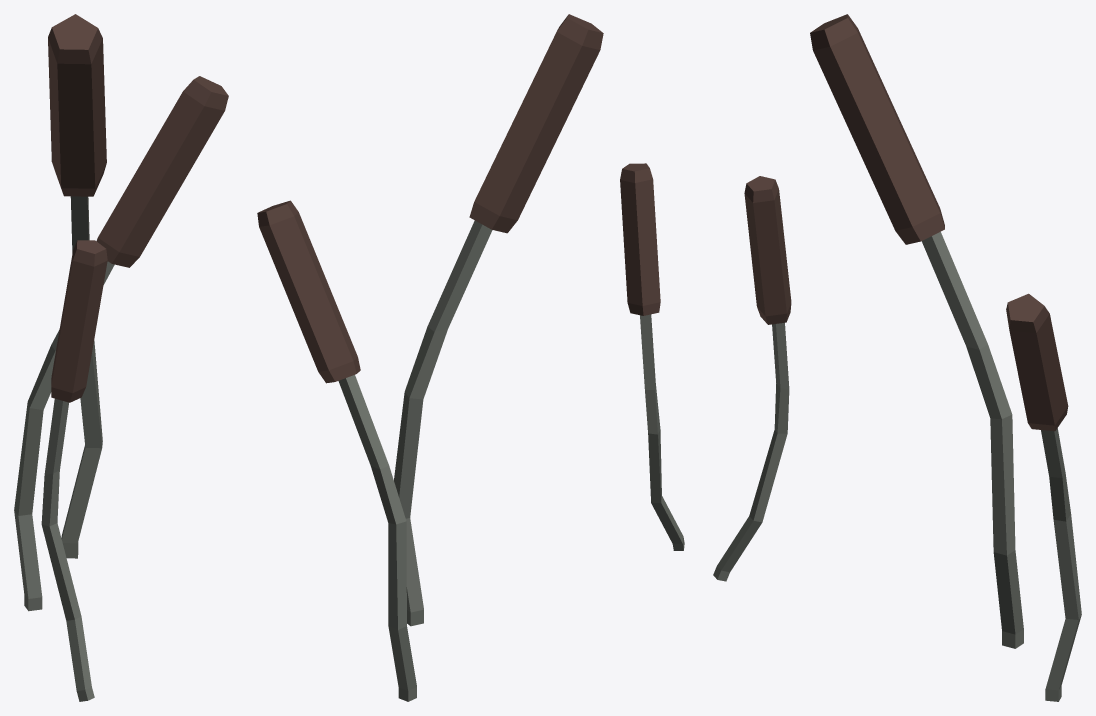
Rendered from fbBush9.fbx.
3 renders of one model, left to right at view 1: azimuth 30°, elevation 25°; view 2: azimuth 150°, elevation 25°; view 3: azimuth 270°, elevation 25°, orthographic. The views are drawn at different scales.
Parts seen in each view (by area): view 1: fbReeds1; view 2: fbReeds1; view 3: fbReeds1.
Boxes of the visible parts, left/top/right/bottom form: fbReeds1: left=14, top=14, right=228, bottom=701; fbReeds1: left=257, top=14, right=684, bottom=701; fbReeds1: left=713, top=14, right=1081, bottom=701.
Bounding box in the file's own units: 75.04 × 159 × 81.58.
